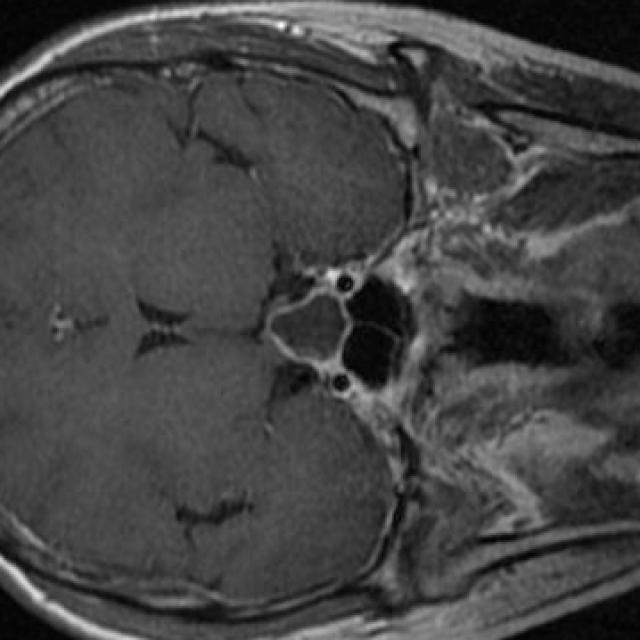pituitary: (267, 292, 353, 380)
